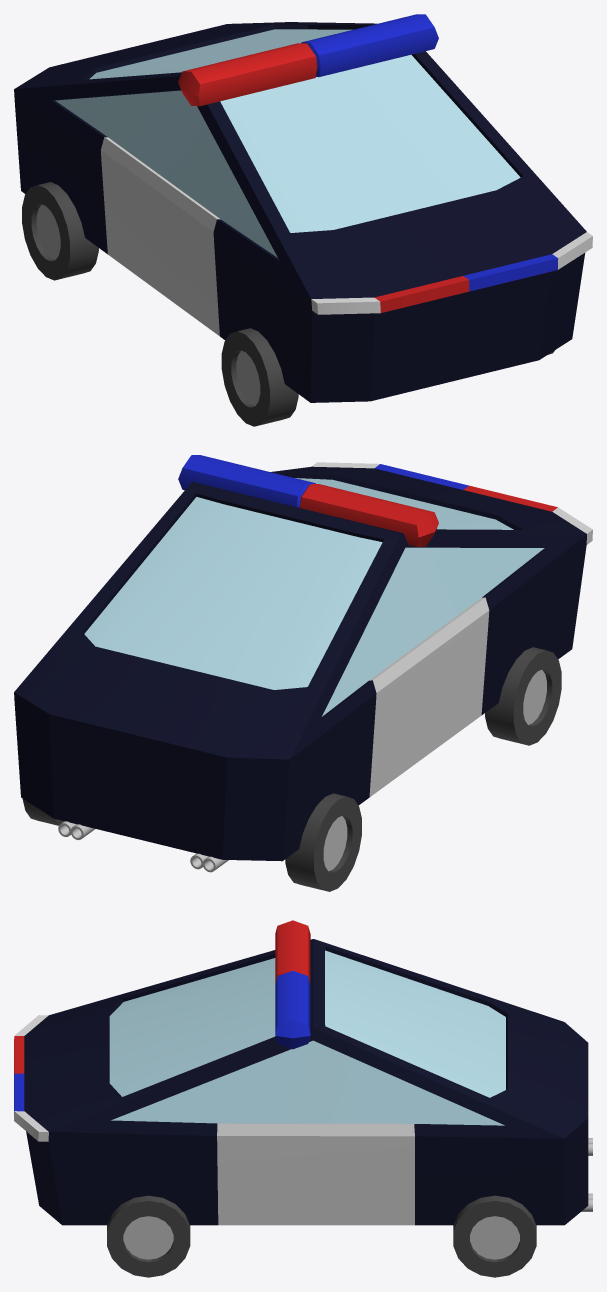
The model's file is M_PoliceCar.FBX.
3 renders of one model, top to bottom at view 1: azimuth 30°, elevation 25°; view 2: azimuth 150°, elevation 25°; view 3: azimuth 270°, elevation 25°, orthographic. The views are drawn at different scales.
Parts seen in each view (by area): view 1: PoliceCar; view 2: PoliceCar; view 3: PoliceCar.
Boxes of the visible parts, x1=… form: PoliceCar: x1=14, y1=14, x2=592, y2=426; PoliceCar: x1=14, y1=455, x2=592, y2=891; PoliceCar: x1=14, y1=920, x2=592, y2=1277.
Bounding box in the file's own units: 1.62 × 3.21 × 1.51.
